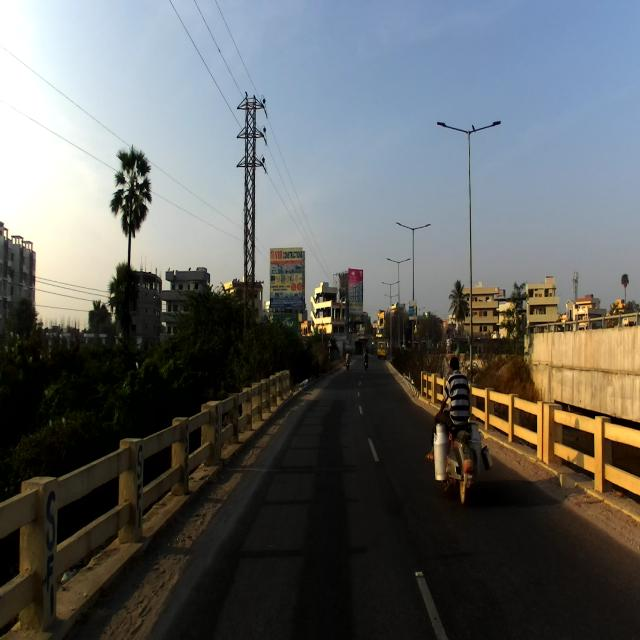barrier ahead at: (0, 358, 305, 640)
motorcycle ahead at: (427, 409, 490, 512)
